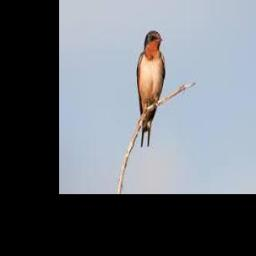Swallow: (137, 30, 165, 146)
